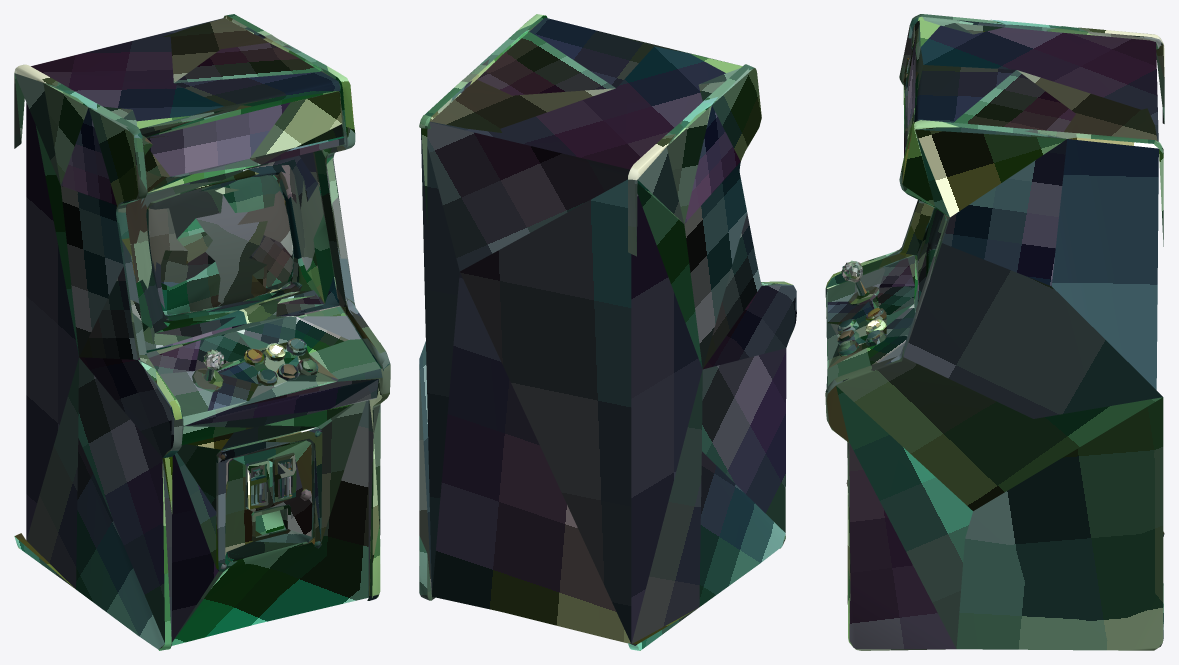
The model's file is cab2.glb.
3 renders of one model, left to right at view 1: azimuth 30°, elevation 25°; view 2: azimuth 150°, elevation 25°; view 3: azimuth 270°, elevation 25°, orthographic. The views are drawn at different scales.
Visible parts, largest first — view 1: Mesh_0; view 2: Mesh_0; view 3: Mesh_0.
Part boxes in pixels (x1,y1,x2,y2): Mesh_0: (14,14,390,650); Mesh_0: (419,14,796,650); Mesh_0: (825,14,1164,650).
Size of the model in its own units: 0.8609 by 1.9 by 1.11.
Materials: 1 (1 with a texture image).
